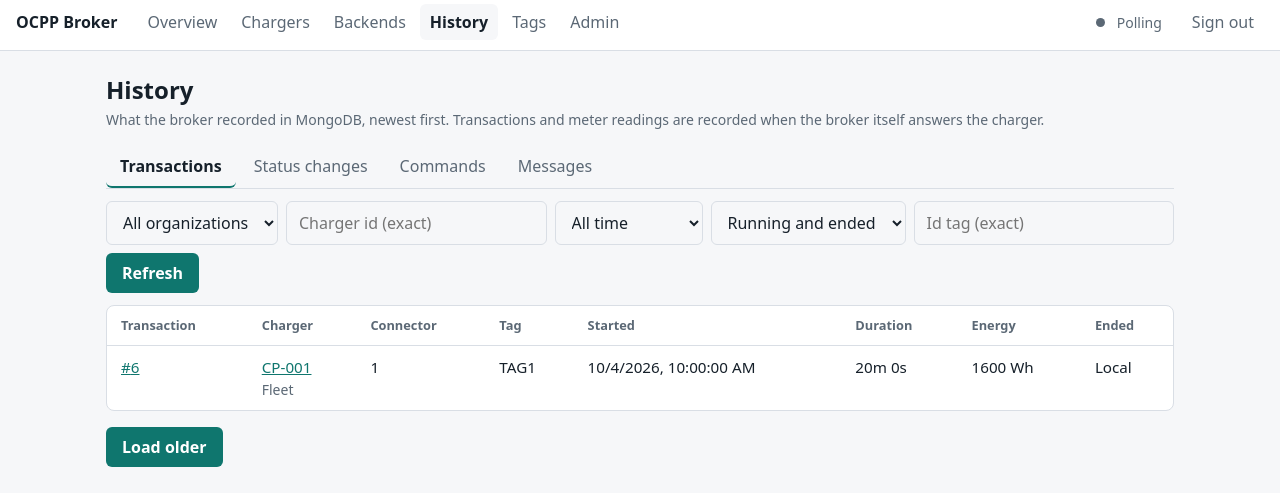
Test: the history page › loads the next page with the cursor and adds it below, and stops offering more at the end
Expected: the link "#6" is shown, x1=121 y1=357 x2=140 y2=377
Click the button "Load older".
click(164, 447)  # box x1=106 y1=427 x2=222 y2=467
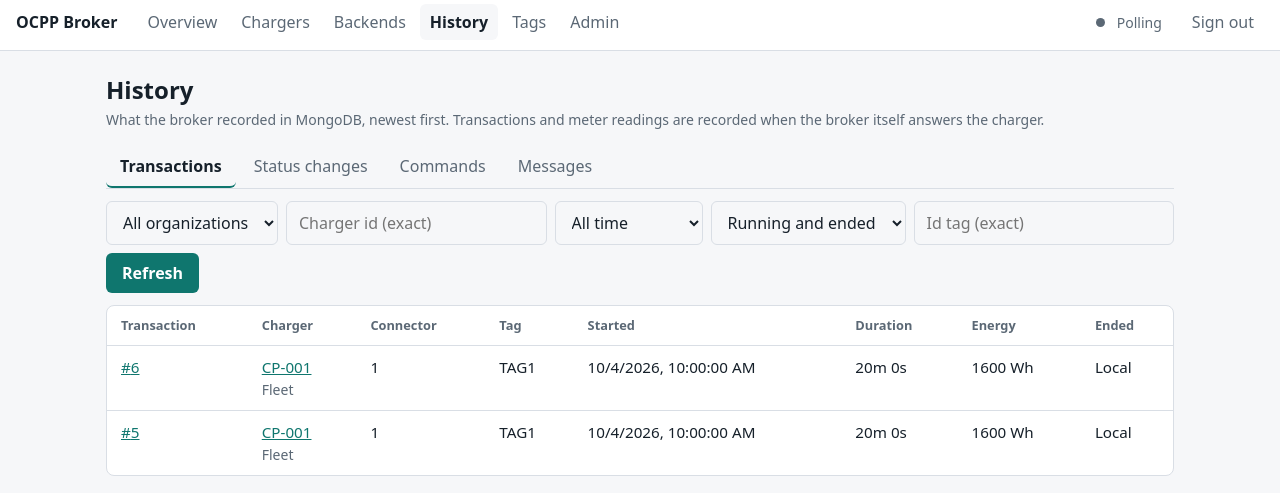
Expected: the link "#6" is shown, x1=121 y1=357 x2=140 y2=377
Expected: the link "#5" is shown, x1=121 y1=422 x2=140 y2=442
Expected: the button "Load older" is gone
